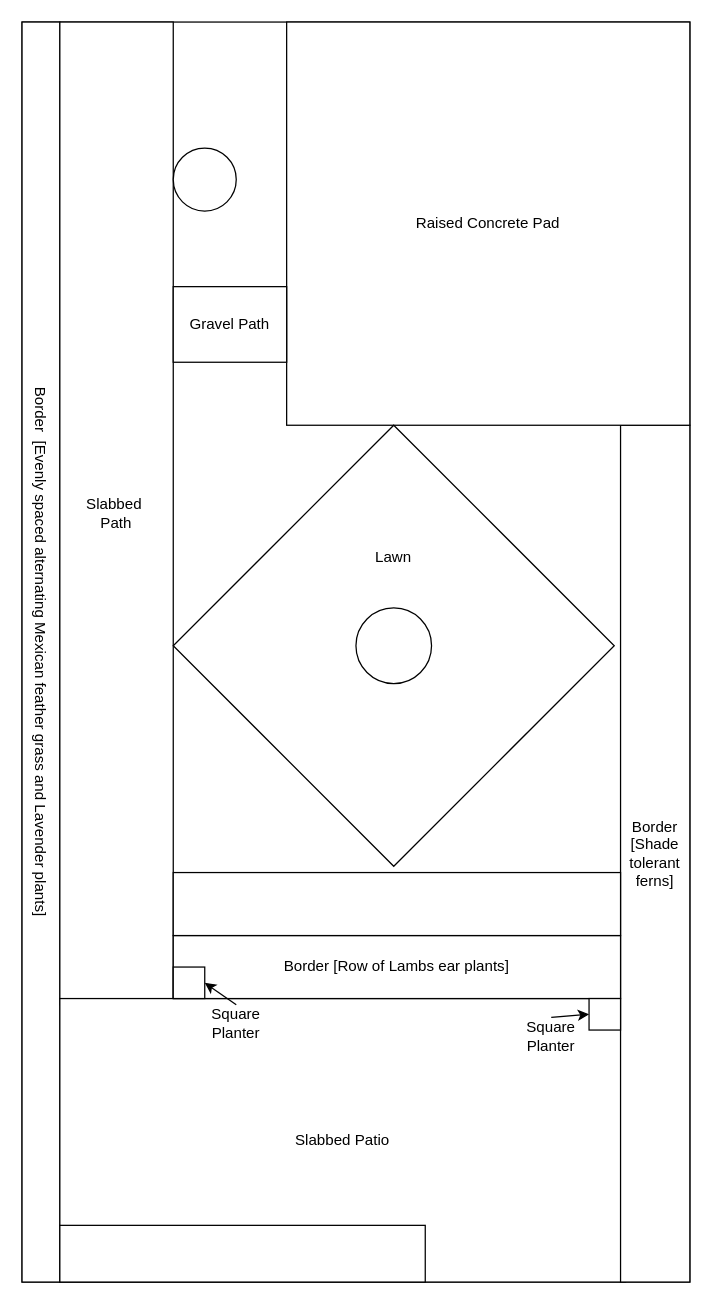
This 713x1304 diagram has some shape labels left out. The shapes that lost their labels are listed below. From the top down, each one's box as (x1, y1, x2, y2) in pixels, then its label:
(172, 147, 236, 211): Acer Tree
(355, 607, 432, 684): Sphere water feature
(172, 871, 621, 936): Border [Row of slightly taller mediterranean plants]
(59, 1224, 425, 1282): Bed [5 Potted shrubs Hebe & Euonymus]
